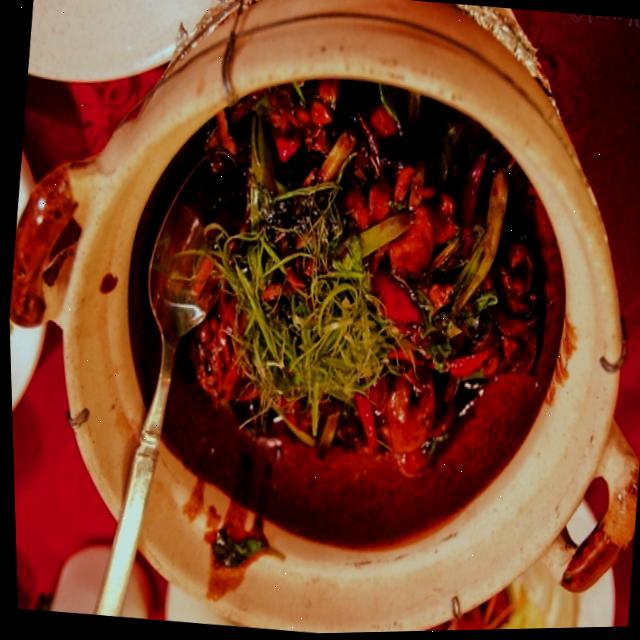鸡肉料理 含炸鸡: (37, 5, 632, 639)
